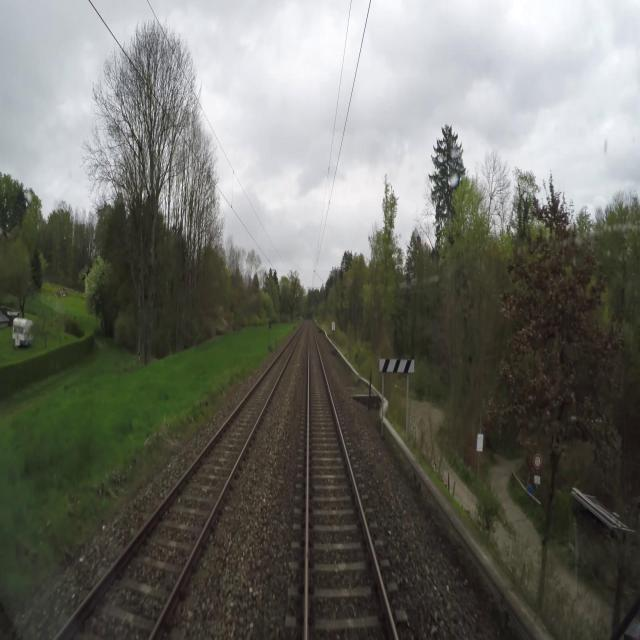rail-track: (59, 331, 299, 639), (309, 326, 393, 639)
